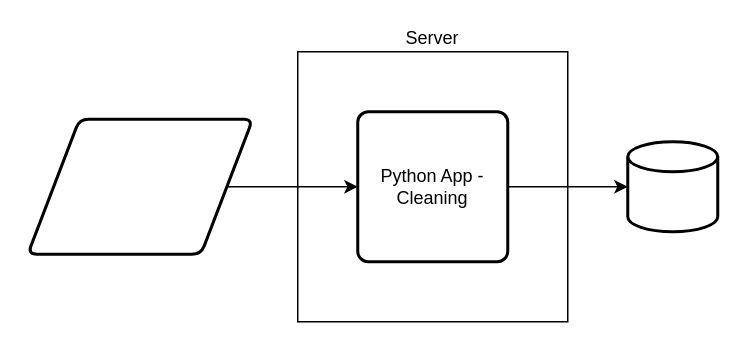
Image size: 744x348. Some labels were removed from this diagram. Here are the shapes that lost their labels. From the top down, the centre of each, then its label:
At point 140,186: "Data Ingestion".
At point 672,186: "Database".
